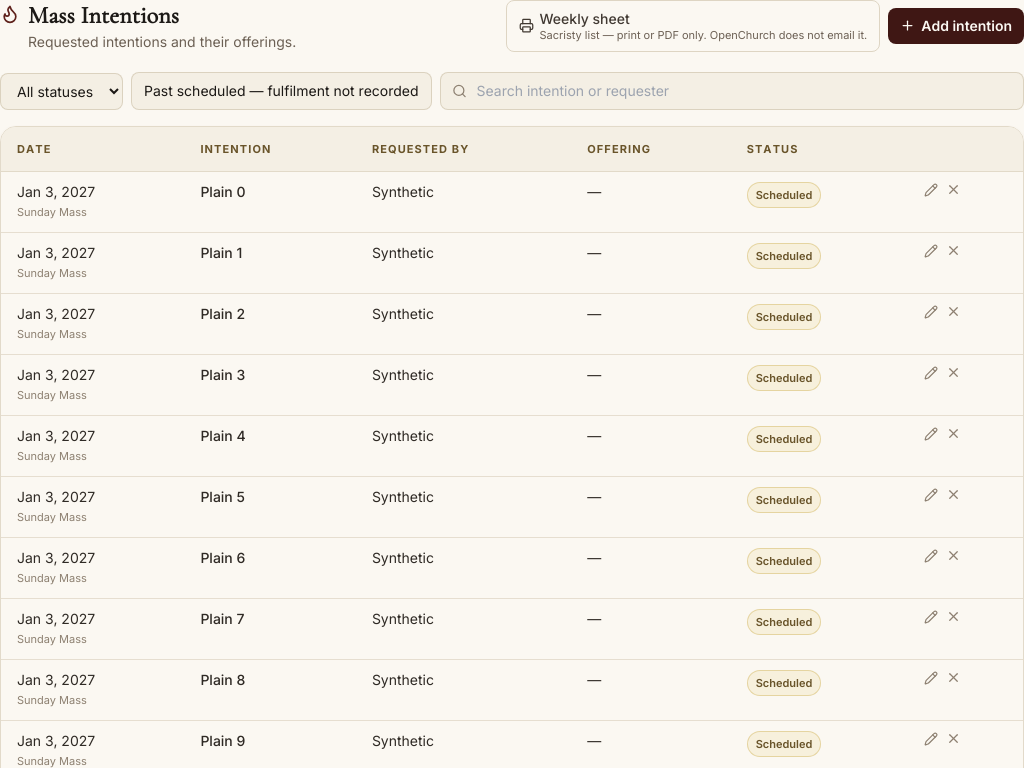
R313-1 list-result ownership › old save reload SUCCESS after a newer filtered FAILURE neither repaints rows nor clears the error
The width and height of the screenshot is (1024, 768).
expect the text "Plain 0" is shown: met, box [184,172,356,232]
Click the button "Add intention".
click(956, 26)  # box [888,8,1023,44]
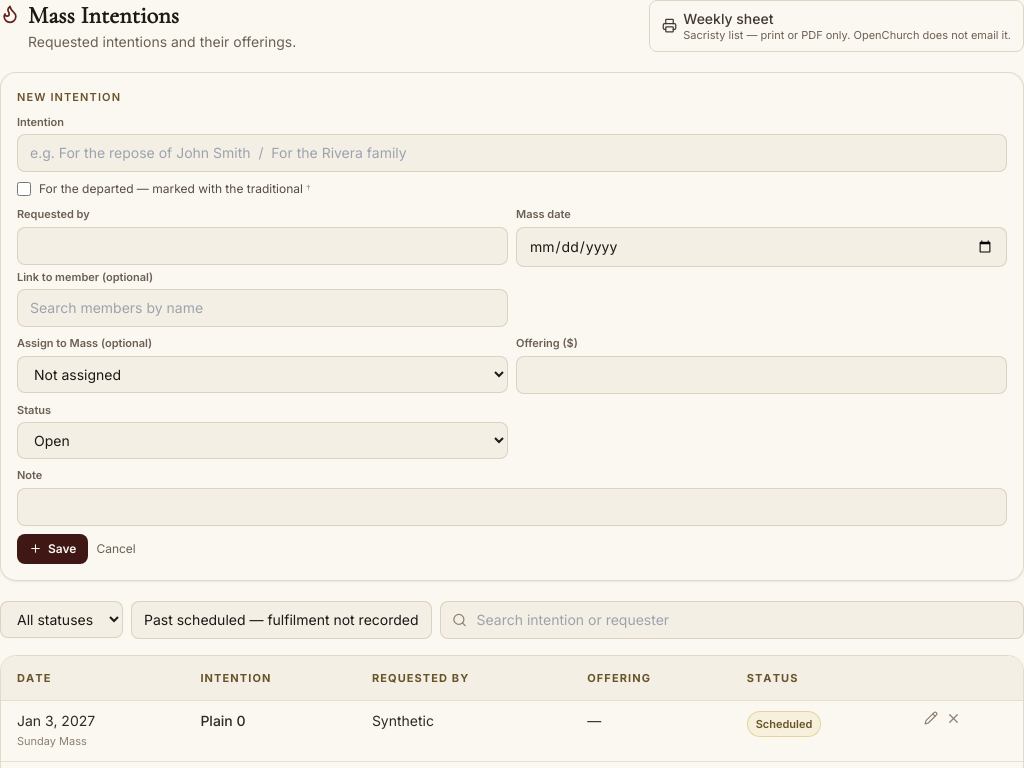
Type "For the parish" into the field labelled "Intention".
click(512, 153); type("For the parish")  # box [17,134,1007,172]
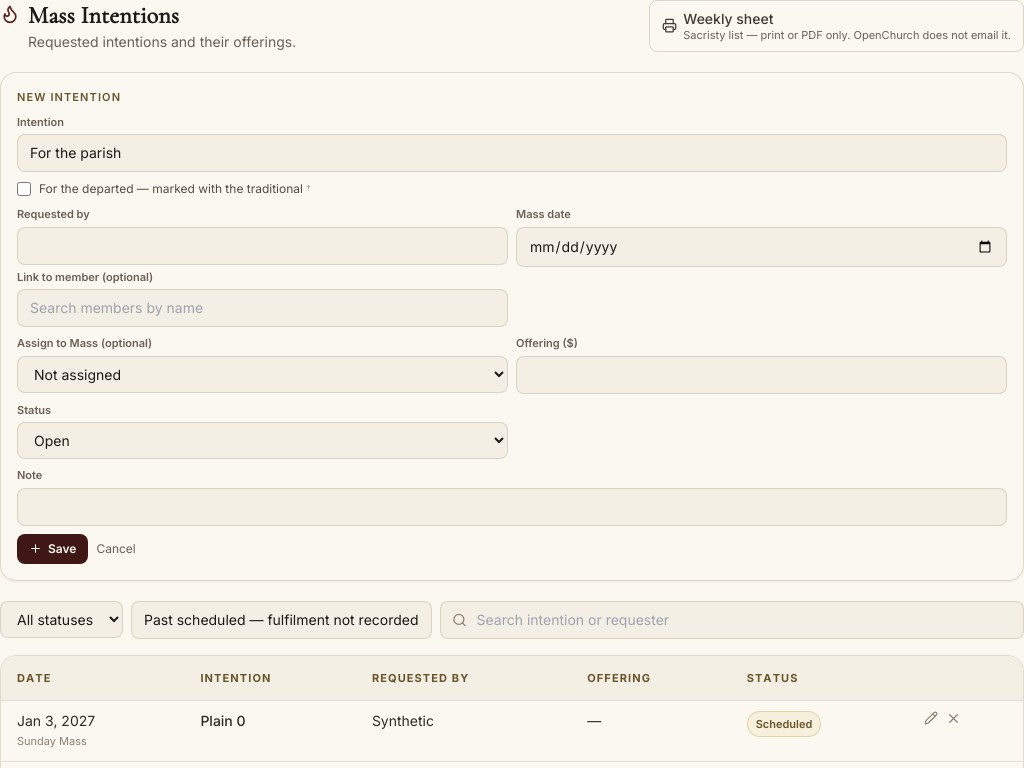
Click the button "Save".
click(53, 548)  # box [17,534,88,564]
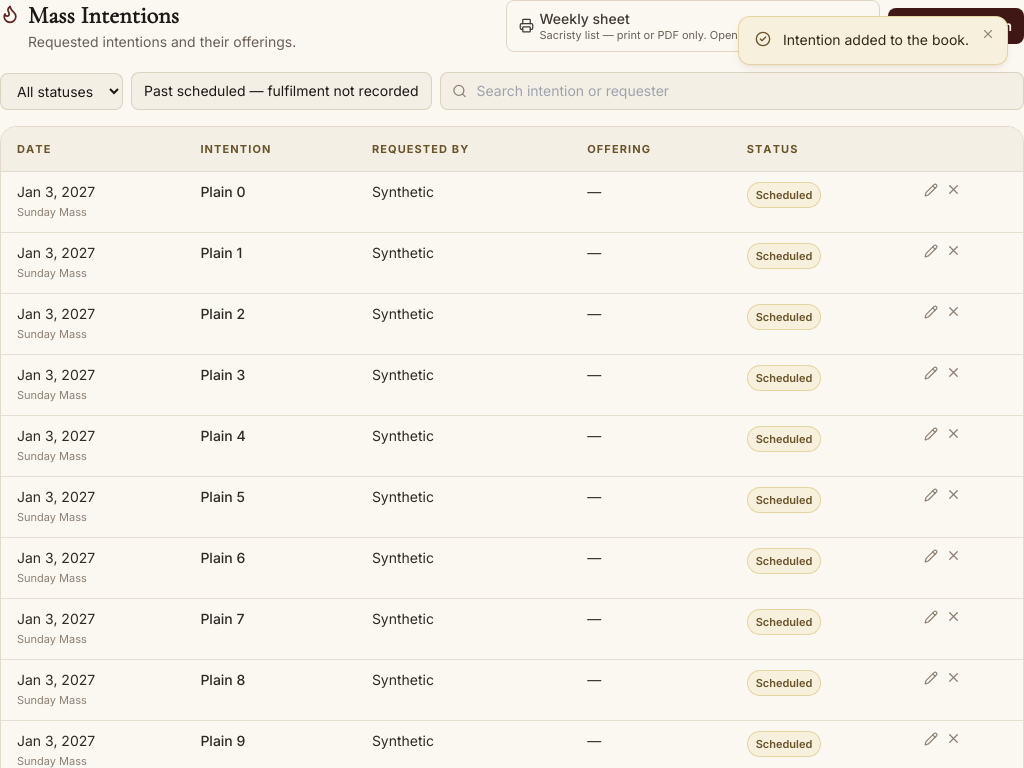
Click the button with test id "mi-past-filter".
click(281, 91)  # box [131,72,432,110]
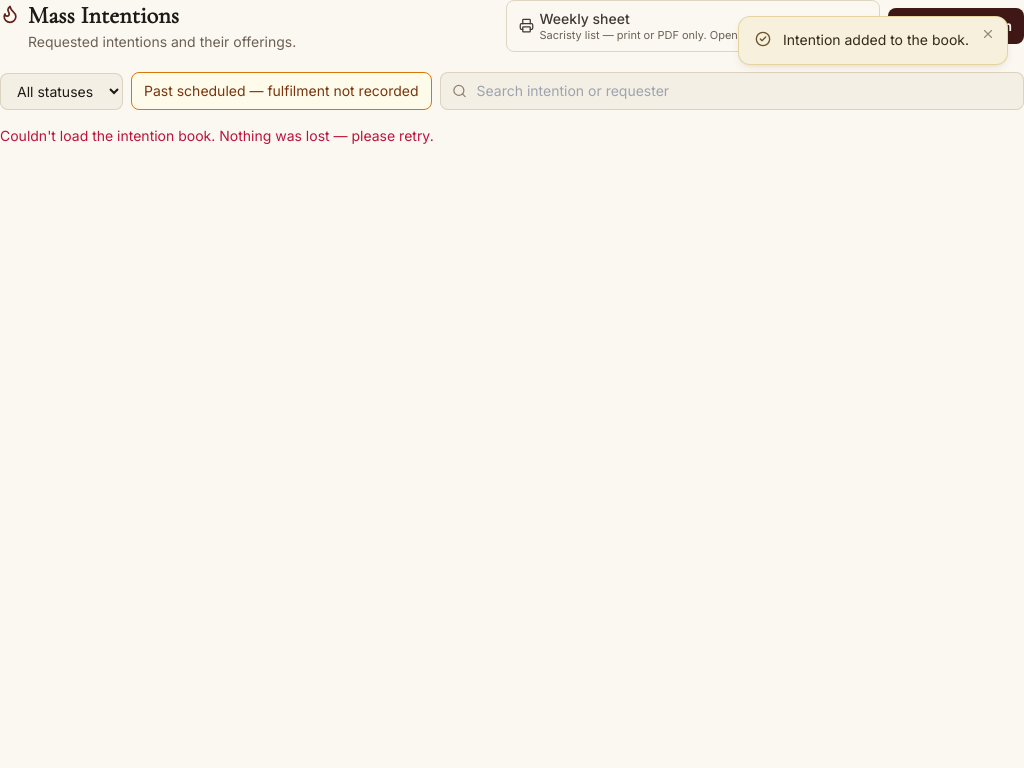
expect the message "Couldn't load the intention book. Nothing was lost — please retry." is shown: met, box [0,127,434,144]
